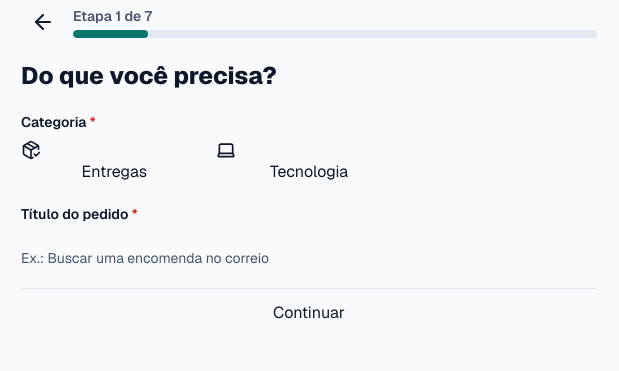
Test: RequestWizard › não avança sem categoria e título; mostra erro humano
Check: the text "Etapa 1 de 7" is shown, box [73, 7, 152, 25]
Step 1. Click the button "Continuar" → (309, 313), box [21, 301, 597, 325]
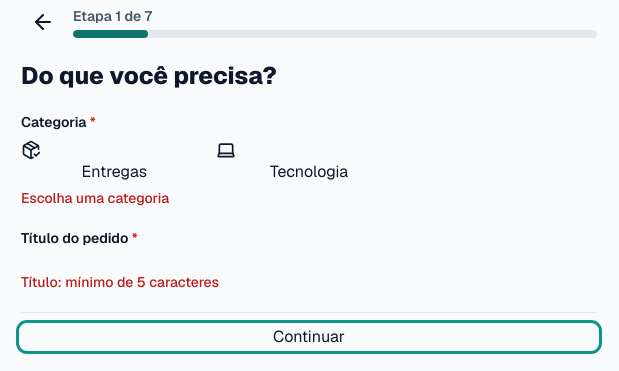
Check: the text "Etapa 1 de 7" is shown, box [73, 7, 152, 25]
Check: the text "Escolha uma categoria" is shown, box [21, 189, 169, 207]
